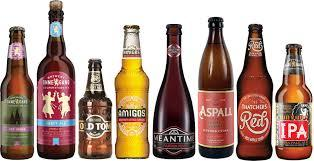Glass bottle: (2, 5, 314, 161)
